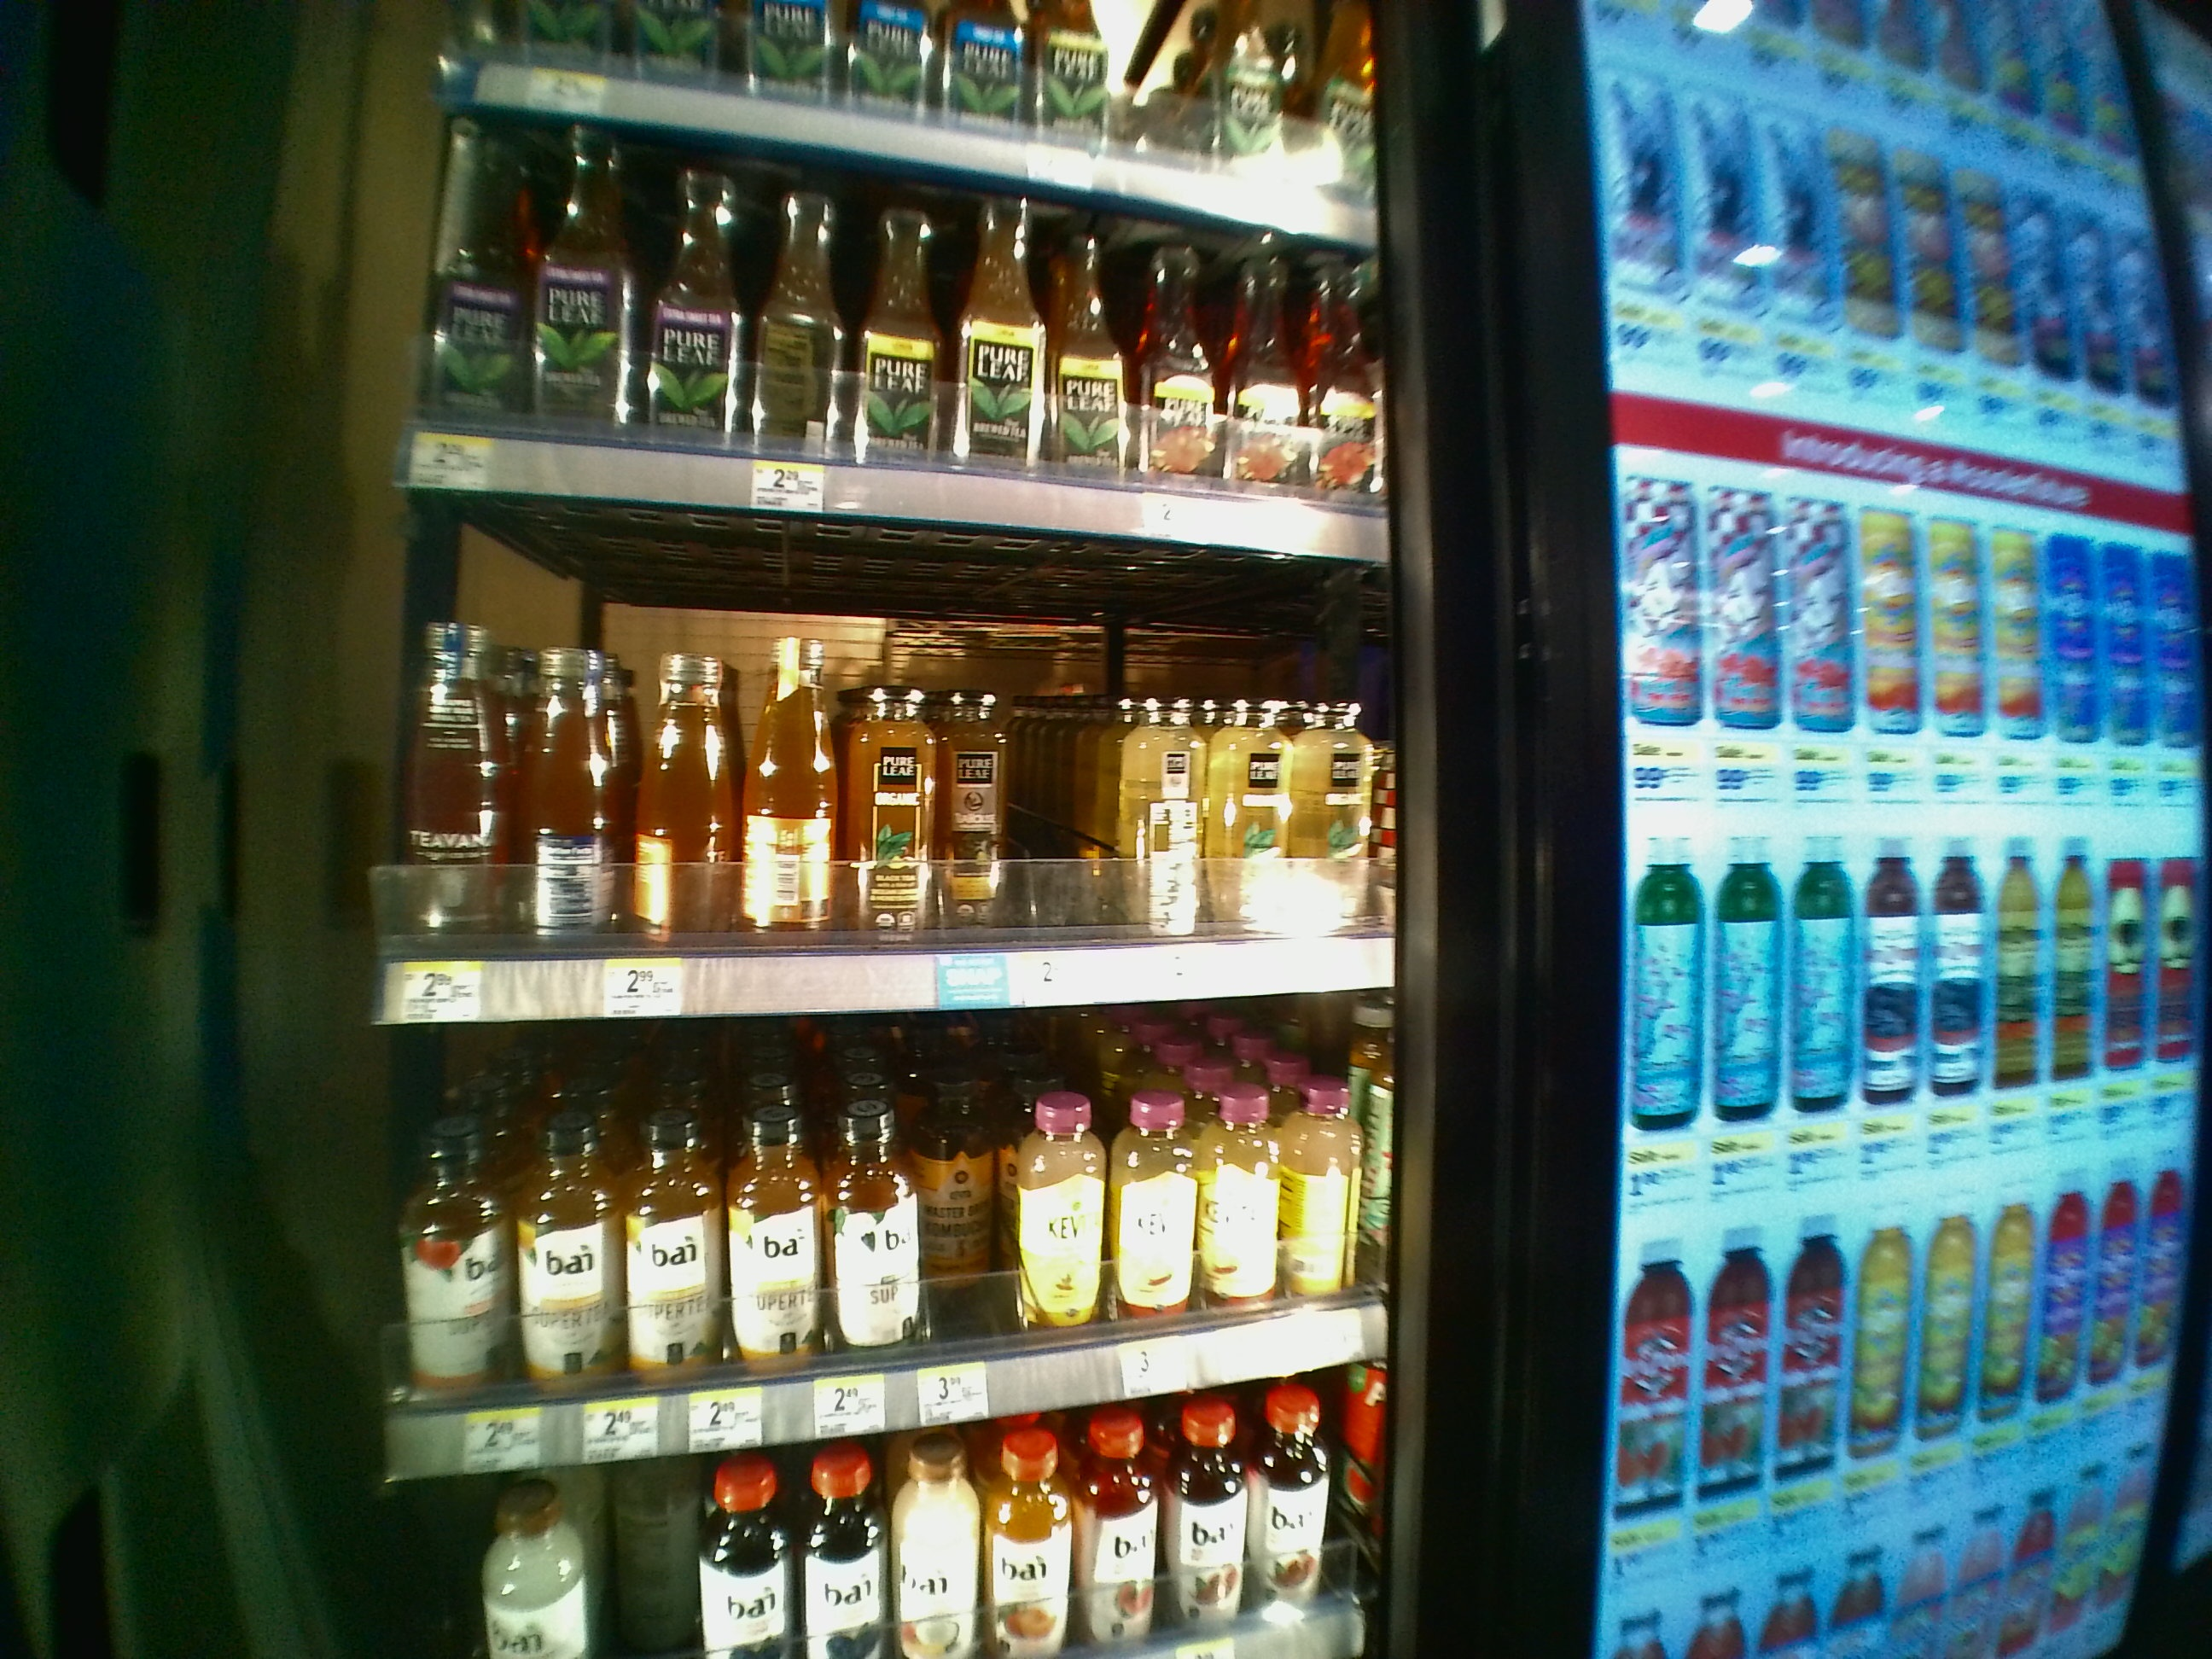shelf: (380, 512, 1399, 1023), (380, 1035, 1399, 1474), (395, 94, 1393, 486)
